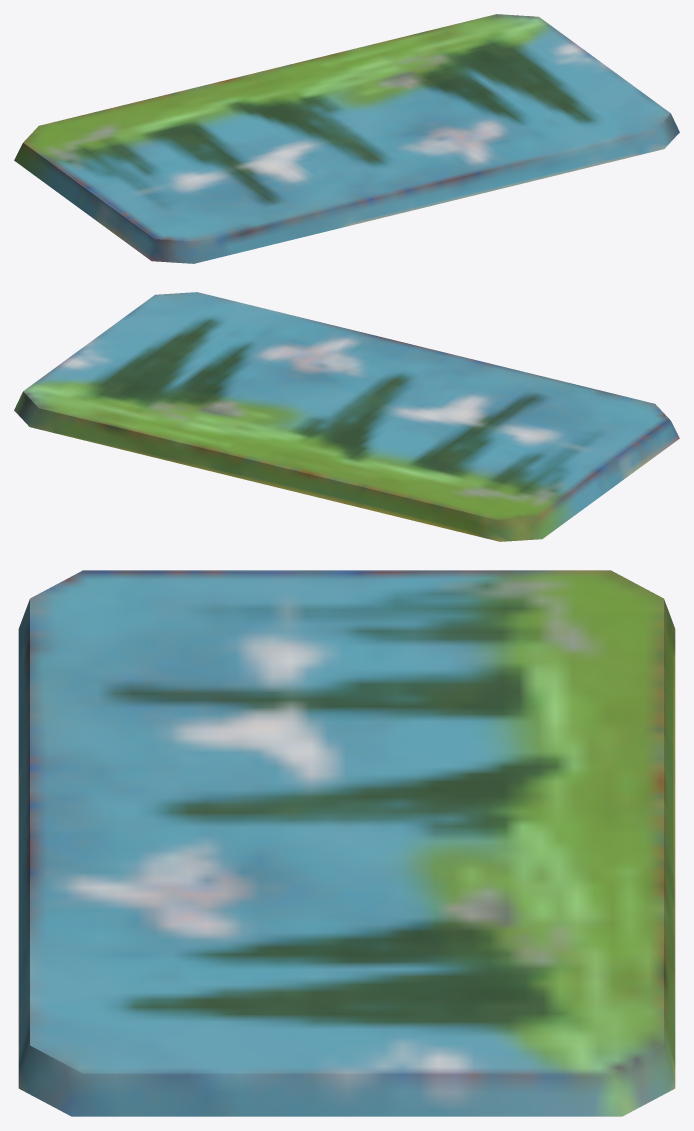
The model's file is SM_Magnets_02.fbx.
3 views of the same model, one above another, from view 1: azimuth 30°, elevation 25°; view 2: azimuth 150°, elevation 25°; view 3: azimuth 270°, elevation 25° (orthographic). The views are drawn at different scales.
Parts seen in each view (by area): view 1: SM_Magnets_02_LOD0; view 2: SM_Magnets_02_LOD0; view 3: SM_Magnets_02_LOD0.
Boxes of the visible parts, <box> form: SM_Magnets_02_LOD0: <box>14,14,679,263</box>; SM_Magnets_02_LOD0: <box>14,292,679,541</box>; SM_Magnets_02_LOD0: <box>18,570,675,1116</box>.
Size of the model in its own units: 14.77 by 7.95 by 0.4929.
1 material, 1 textured.
